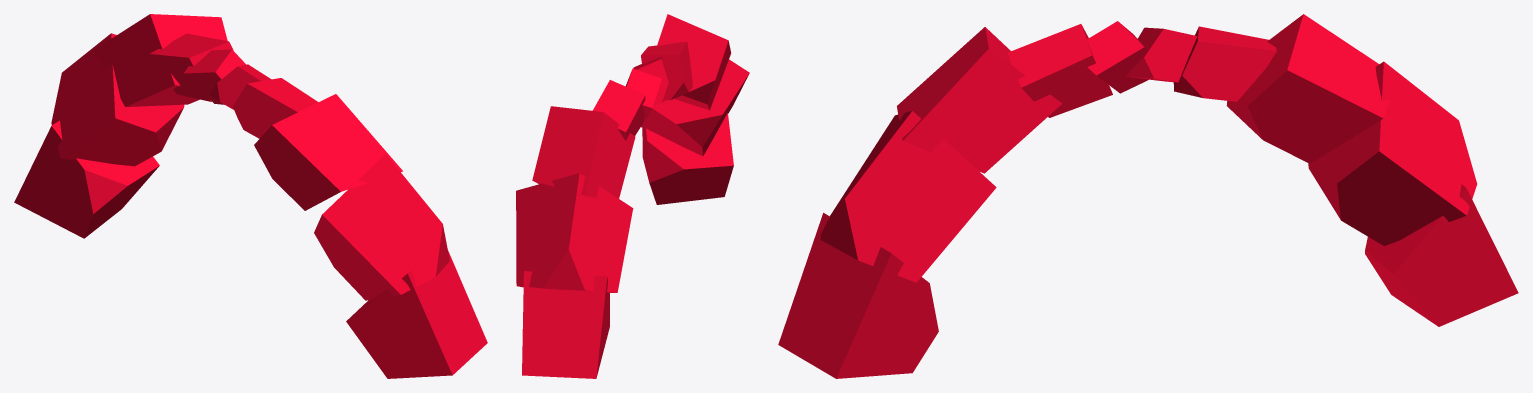
File: RockPile022.fbx
The picture shows the model from 3 angles, left to right: view 1: azimuth 30°, elevation 25°; view 2: azimuth 150°, elevation 25°; view 3: azimuth 270°, elevation 25°; orthographic projection. The views are drawn at different scales.
Parts seen in each view (by area): view 1: RockPile022, RockPile023; view 2: RockPile023, RockPile022; view 3: RockPile022, RockPile023.
Boxes of the visible parts, x1,y1,x2,y2 form: RockPile022: (209,64,487,378); RockPile023: (14,14,245,238); RockPile023: (516,68,661,378); RockPile022: (633,14,749,204); RockPile022: (778,21,1148,378); RockPile023: (1125,14,1518,326).
Bounding box in the file's own units: 123 × 304 × 135.
